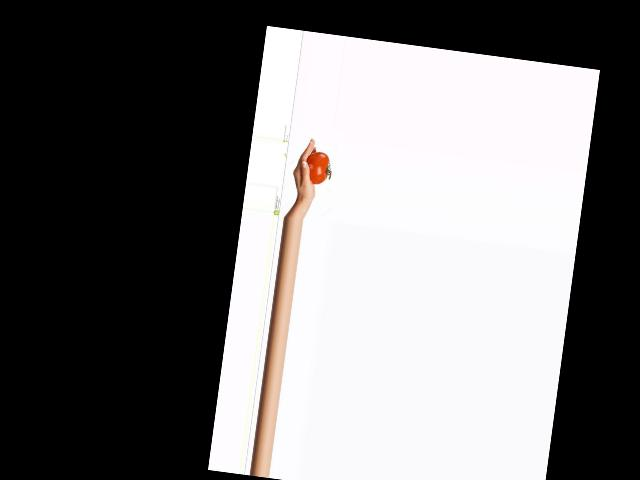tomato: (303, 150, 330, 185)
